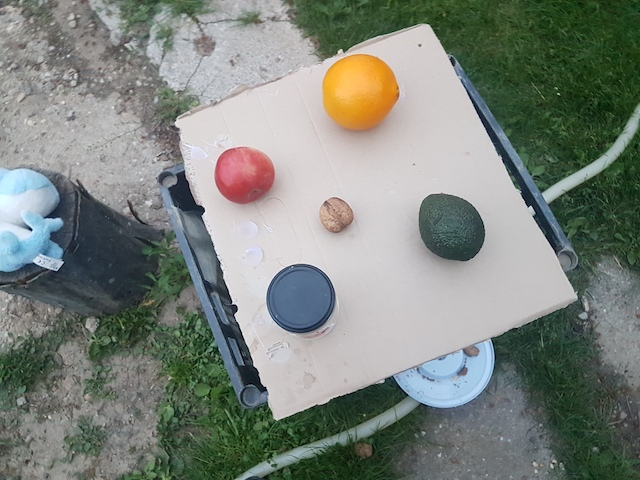apple: (211, 145, 280, 203)
avocado: (417, 186, 484, 263)
nut: (315, 197, 359, 235)
orange: (321, 55, 401, 132)
recipient: (264, 262, 335, 337)
